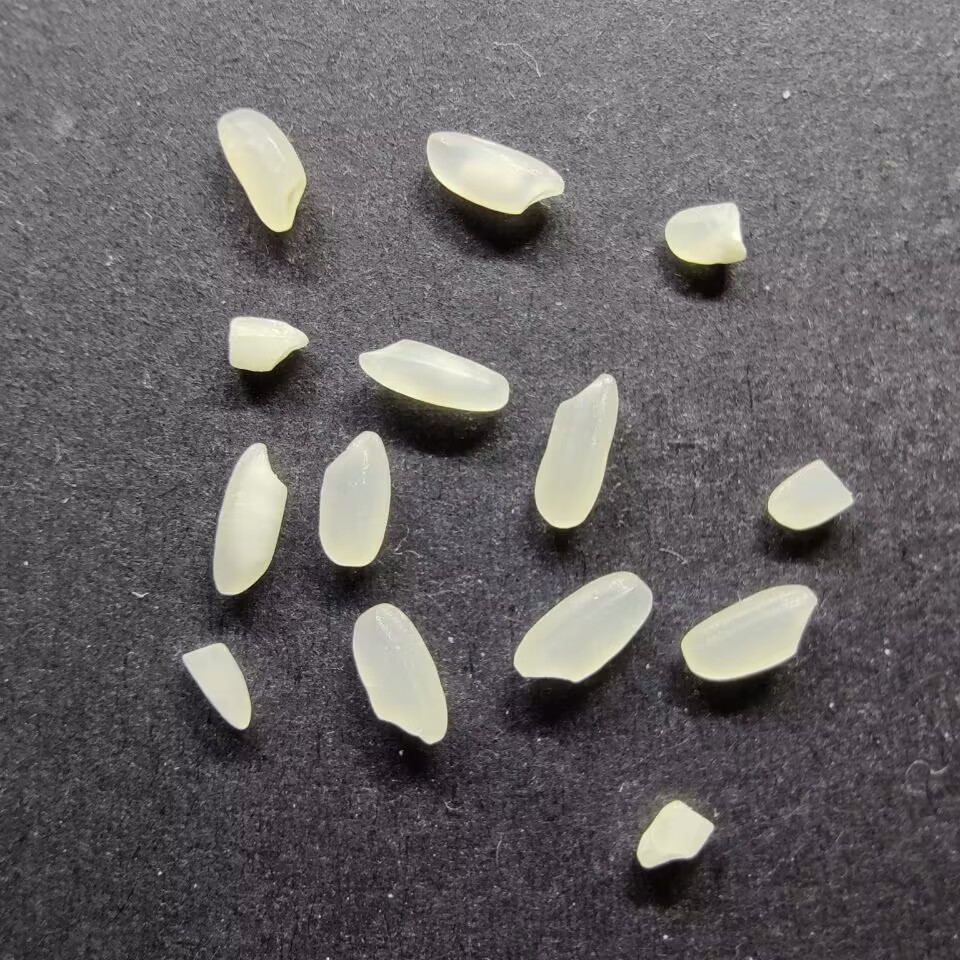broken: (762, 456, 857, 531), (180, 642, 254, 734), (632, 798, 716, 869), (662, 201, 747, 267), (225, 313, 311, 373)
rice: (511, 569, 655, 686), (349, 601, 451, 746), (677, 581, 819, 681), (532, 370, 621, 529), (210, 441, 292, 596), (425, 128, 567, 215), (356, 336, 512, 413), (214, 106, 307, 234), (316, 428, 391, 568)
